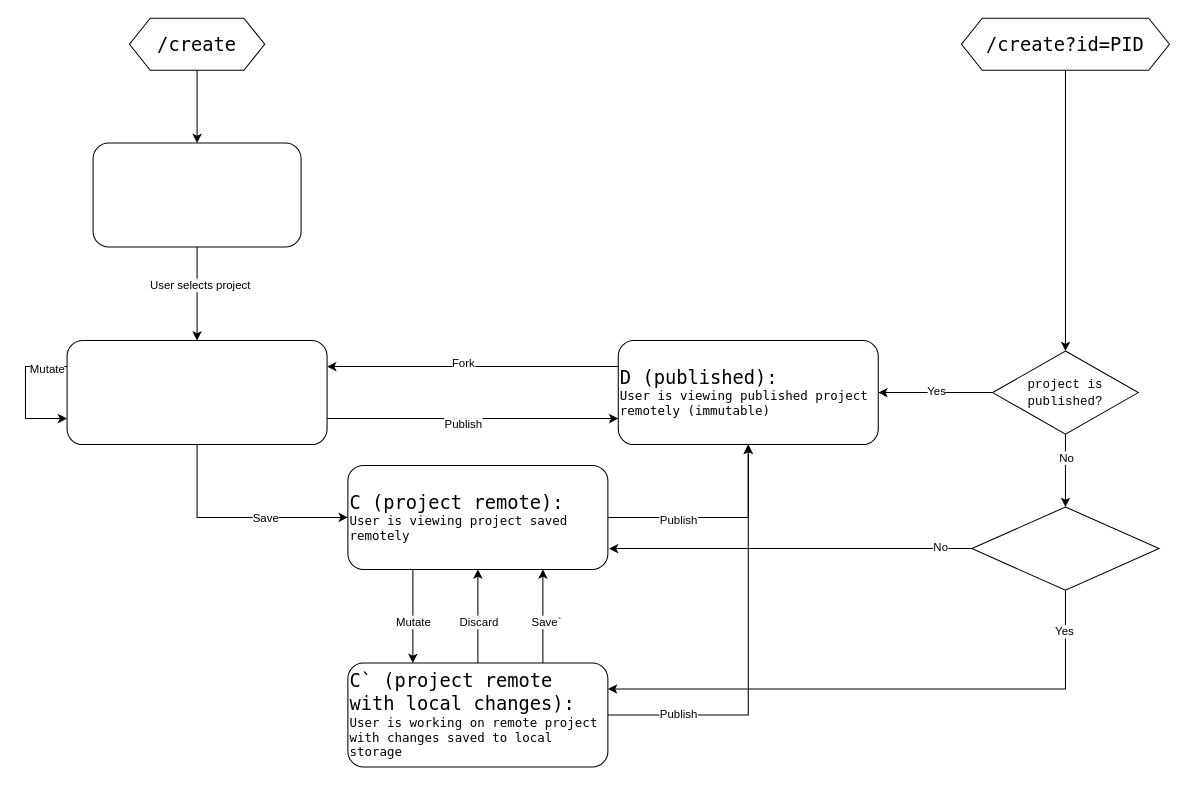
This 1188x785 diagram has some shape labels left out. Each missing label, with the centre of its shape:
A (selection): User is choosing template or which project to load: (196,194)
B (project local): User working on project saved to local storage only: (196,392)
project in local storage?: (1065,548)
